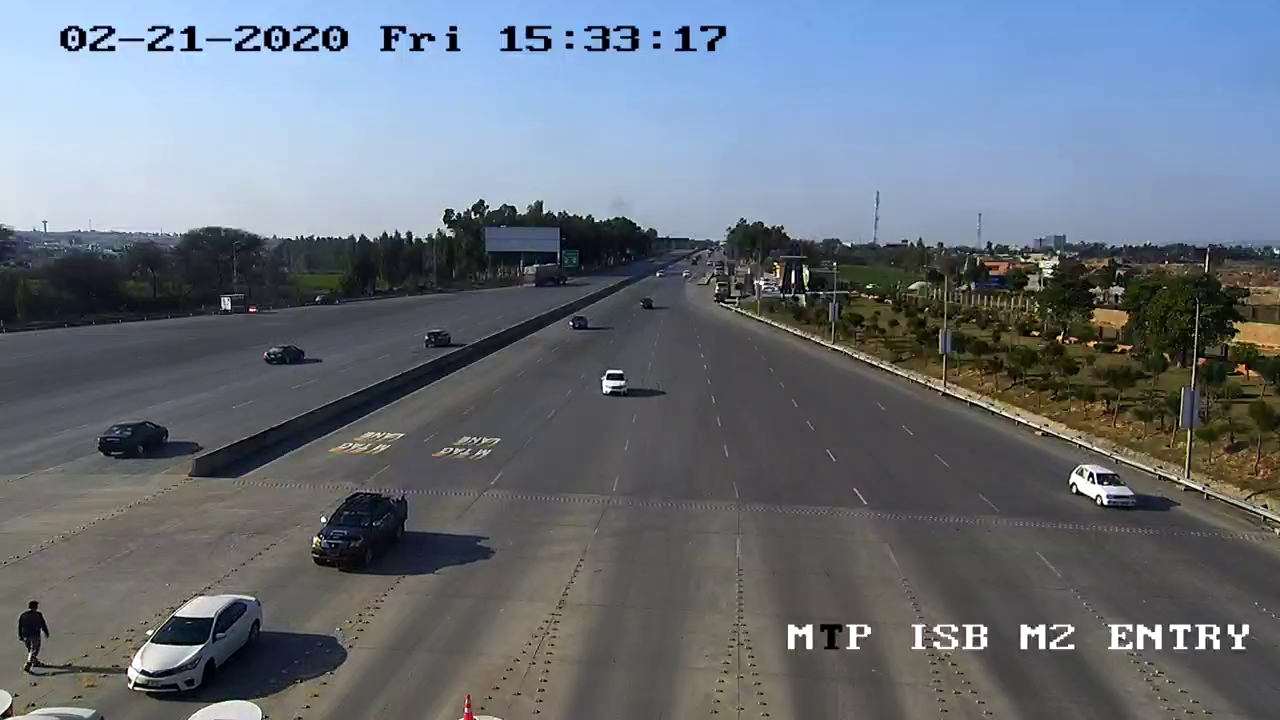f1: (112, 586, 272, 700), (297, 479, 419, 575), (1052, 448, 1143, 520), (588, 354, 640, 411)
